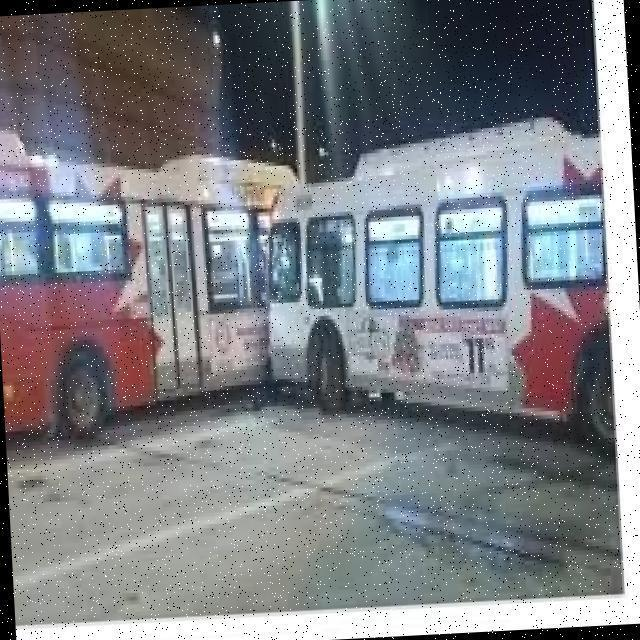accident: (155, 103, 420, 470)
